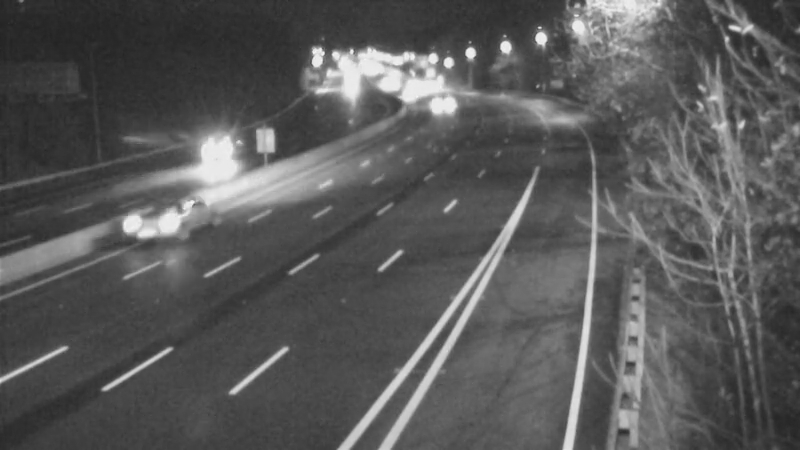vehicle: (119, 177, 199, 257), (179, 113, 259, 193), (421, 81, 471, 131)
